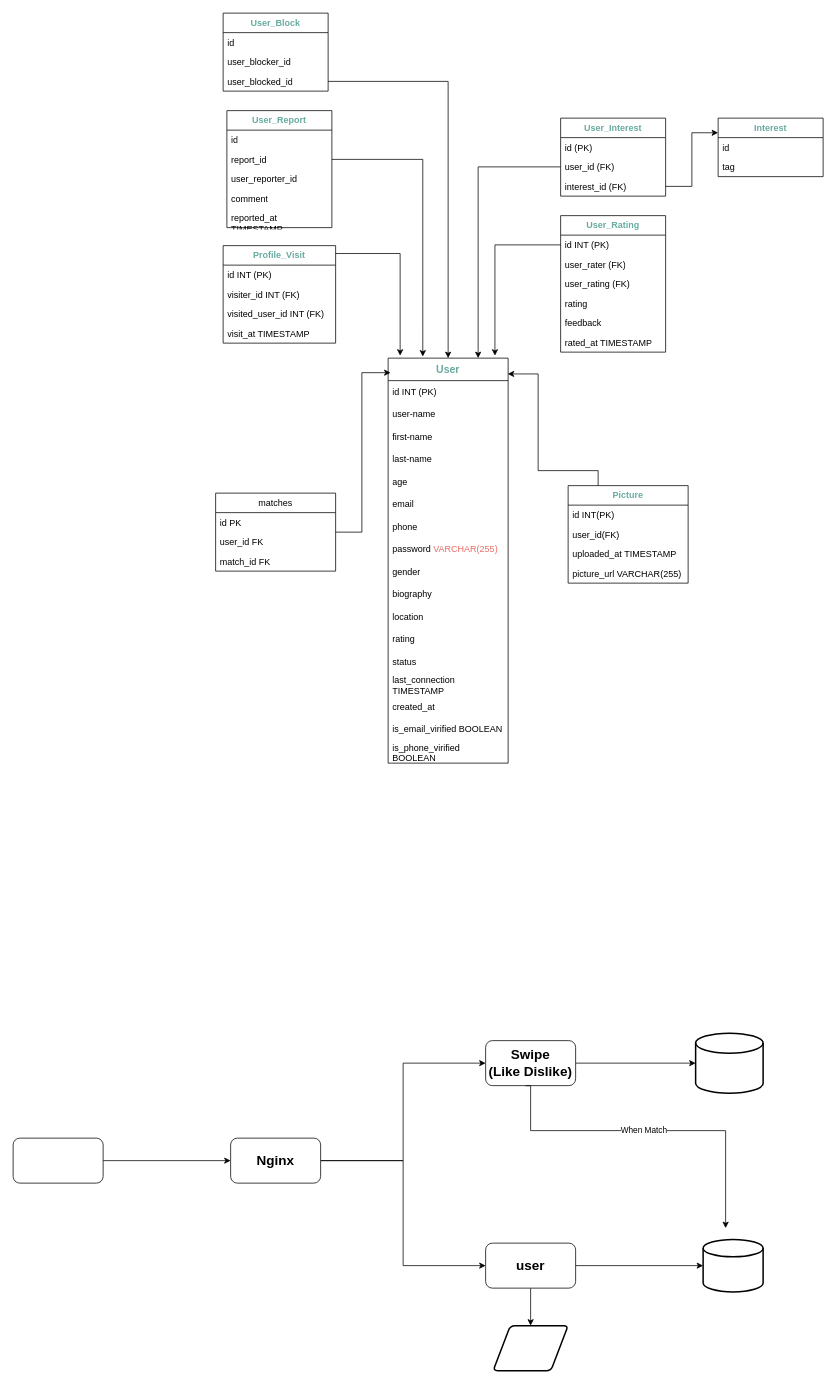
Image size: 836x1385. Some labels were removed from this diagram. Each missing label, with the centre of its shape:
"Casandra user like dislike" belongs at (729,1063).
"Client" belongs at (57,1160).
"PSQL pfrofile info" belongs at (733,1265).
"Redis Session" belongs at (530,1347).
